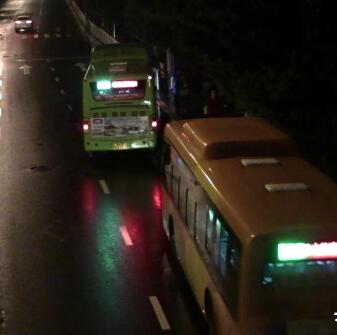bus: (157, 112, 334, 329), (82, 37, 164, 153)
car: (12, 11, 35, 33)
